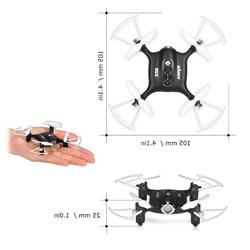drone: (110, 14, 228, 133), (110, 170, 232, 229), (12, 118, 85, 154)
